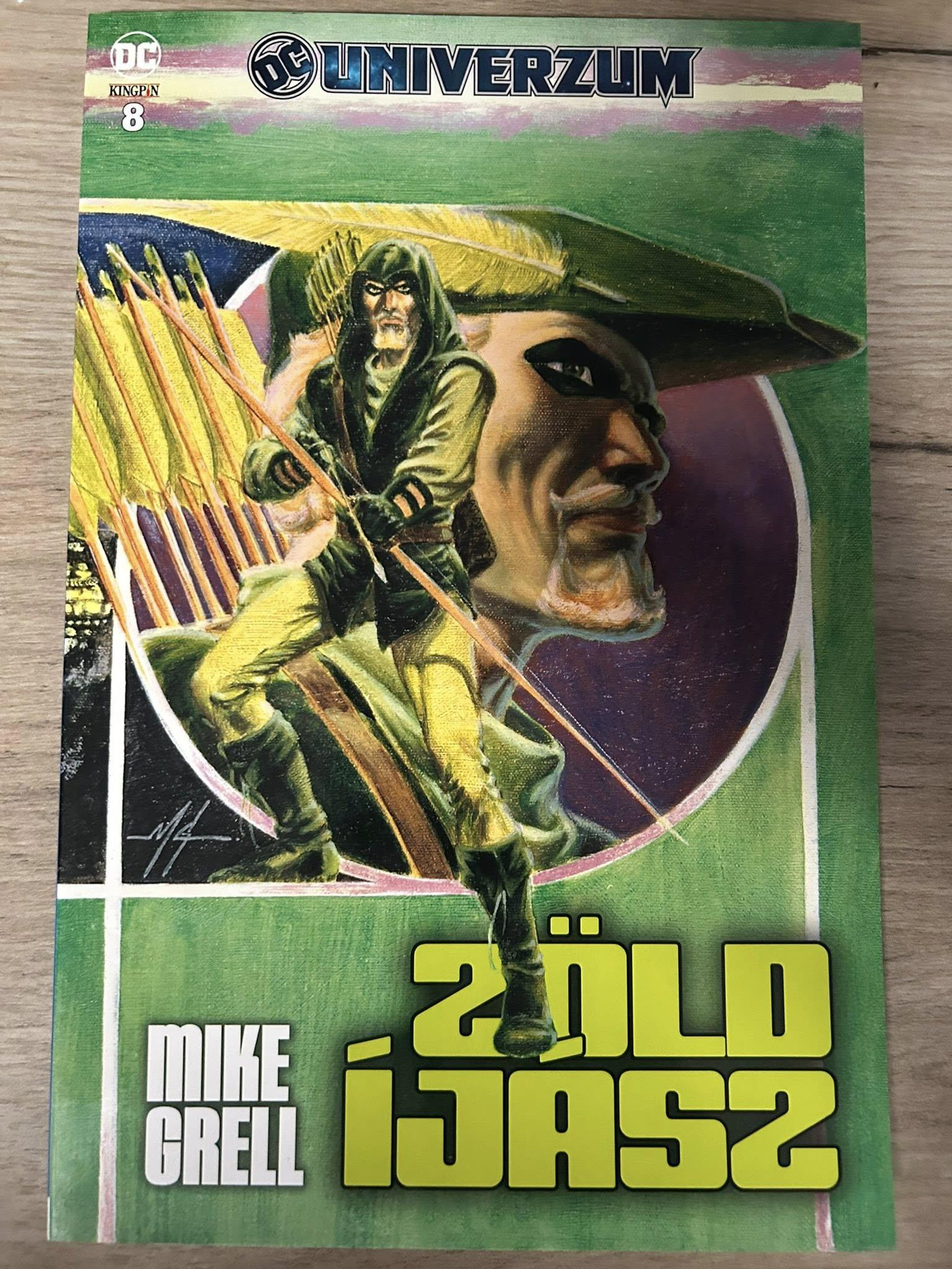comic: (49, 10, 911, 1254)
